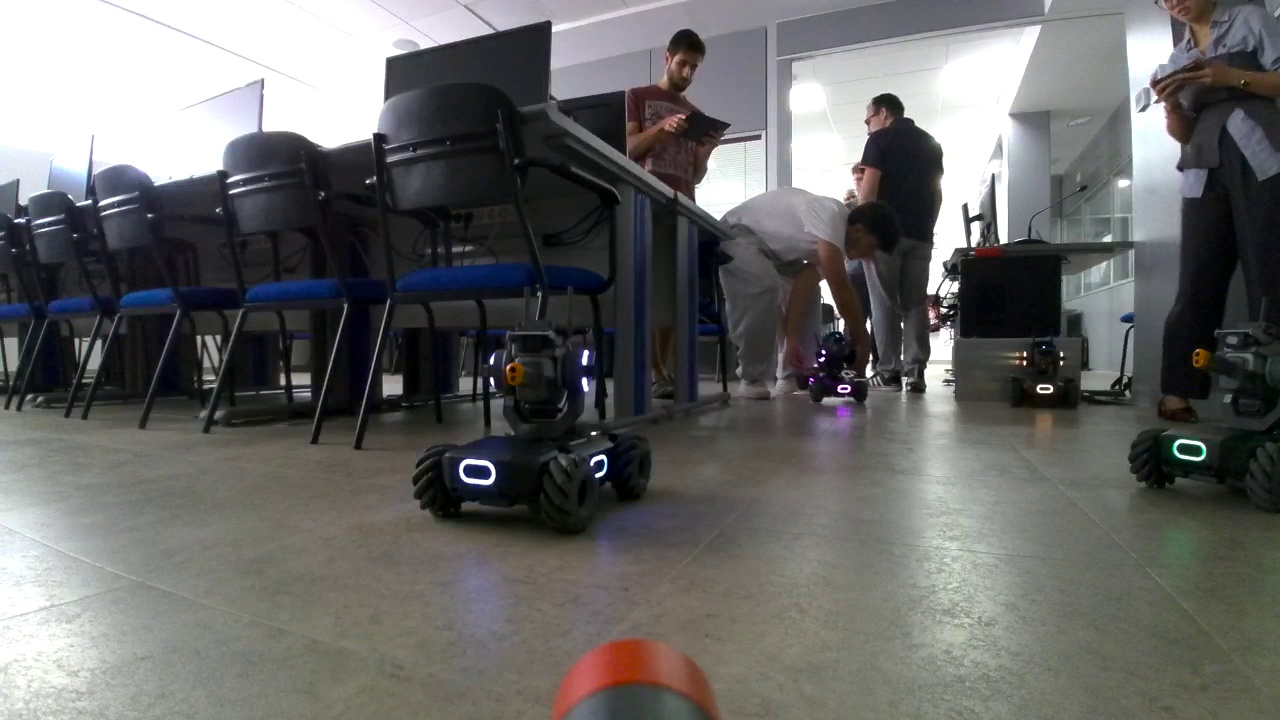robot: (410, 283, 651, 537), (1126, 300, 1280, 513), (1007, 332, 1079, 406), (808, 329, 870, 403)
